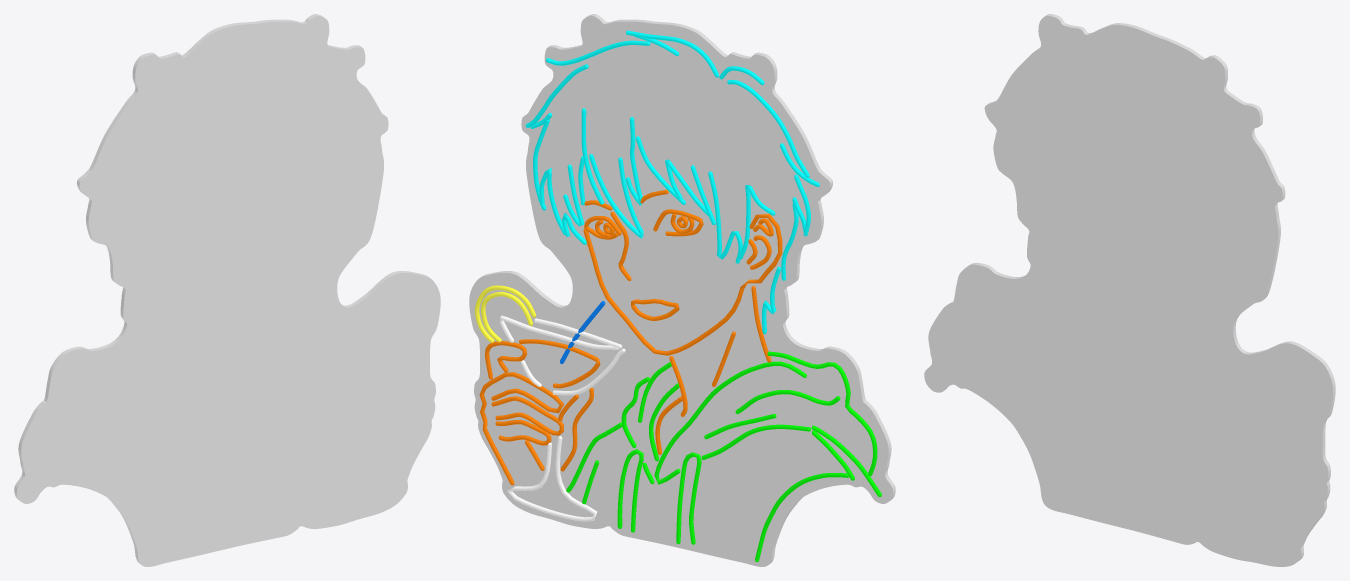
Rendered from my-neon-sign-optimized (34).glb.
3 renders of one model, left to right at view 1: azimuth 30°, elevation 25°; view 2: azimuth 150°, elevation 25°; view 3: azimuth 330°, elevation 25°, orthographic. The views are drawn at different scales.
Size of the model in its own units: 634 by 750 by 17.
